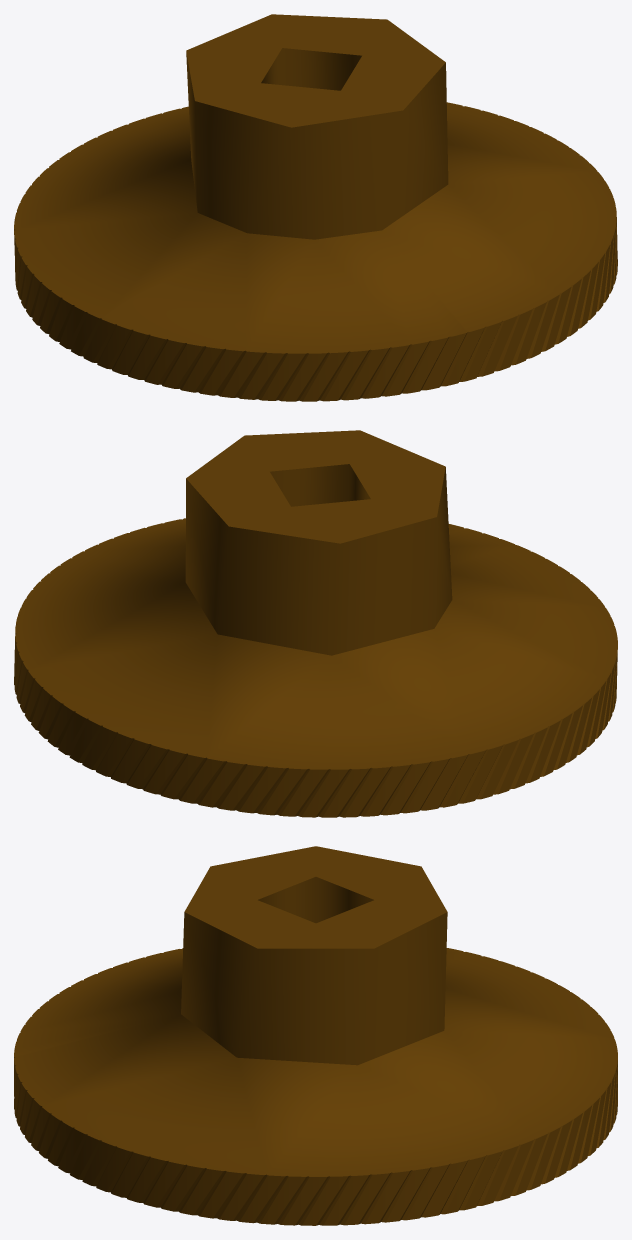
File: écrou balancier.obj
3 views of the same model, one above another, from view 1: azimuth 30°, elevation 25°; view 2: azimuth 150°, elevation 25°; view 3: azimuth 270°, elevation 25° (orthographic).
Visible parts, largest first — view 1: Face_93, Face_94, Face_90, Face_275, Face_77, Face_78, Face_76, Face_75, Face_74, Face_79, Face_73, Face_80 (+17 smaller); view 2: Face_93, Face_94, Face_90, Face_275, Face_16, Face_17, Face_15, Face_18, Face_14, Face_19, Face_13, Face_20 (+17 smaller); view 3: Face_93, Face_94, Face_90, Face_275, Face_46, Face_45, Face_48, Face_47, Face_44, Face_49, Face_43, Face_50 (+18 smaller).
Part boxes in pixels (box(x1,y1,x2,y2)): Face_93: box(14, 102, 616, 353); Face_94: box(186, 52, 448, 239); Face_90: box(186, 14, 445, 127); Face_275: box(261, 48, 361, 90); Face_77: box(282, 353, 326, 401); Face_78: box(261, 353, 305, 400); Face_76: box(303, 352, 347, 401); Face_75: box(324, 350, 368, 401); Face_74: box(345, 348, 388, 400); Face_79: box(240, 353, 284, 399); Face_73: box(366, 345, 408, 398); Face_80: box(220, 351, 263, 397); Face_93: box(15, 518, 617, 769); Face_94: box(185, 467, 452, 655); Face_90: box(186, 430, 445, 543); Face_275: box(270, 464, 370, 506); Face_16: box(301, 769, 348, 817); Face_17: box(280, 769, 327, 816); Face_15: box(322, 768, 369, 817); Face_18: box(260, 768, 306, 815); Face_14: box(343, 767, 389, 817); Face_19: box(239, 767, 285, 813); Face_13: box(364, 765, 410, 816); Face_20: box(219, 765, 264, 810); Face_93: box(14, 948, 617, 1176); Face_94: box(181, 912, 447, 1065); Face_90: box(184, 846, 447, 948); Face_275: box(258, 877, 373, 923); Face_46: box(302, 1176, 347, 1225); Face_45: box(323, 1175, 368, 1225); Face_48: box(260, 1176, 305, 1224); Face_47: box(281, 1177, 326, 1225); Face_44: box(344, 1173, 389, 1225); Face_49: box(239, 1175, 284, 1222); Face_43: box(365, 1171, 409, 1224); Face_50: box(219, 1174, 263, 1220).
Size of the model in its own units: 0.017 by 0.0071 by 0.017.
